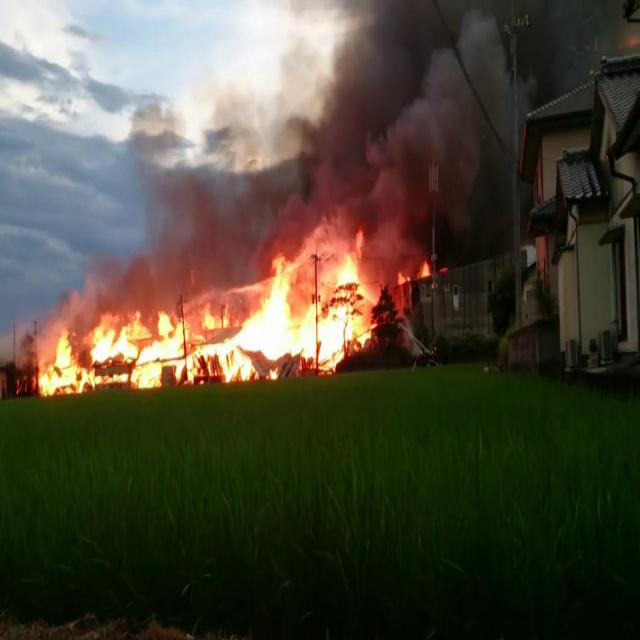fire: (38, 233, 381, 390)
